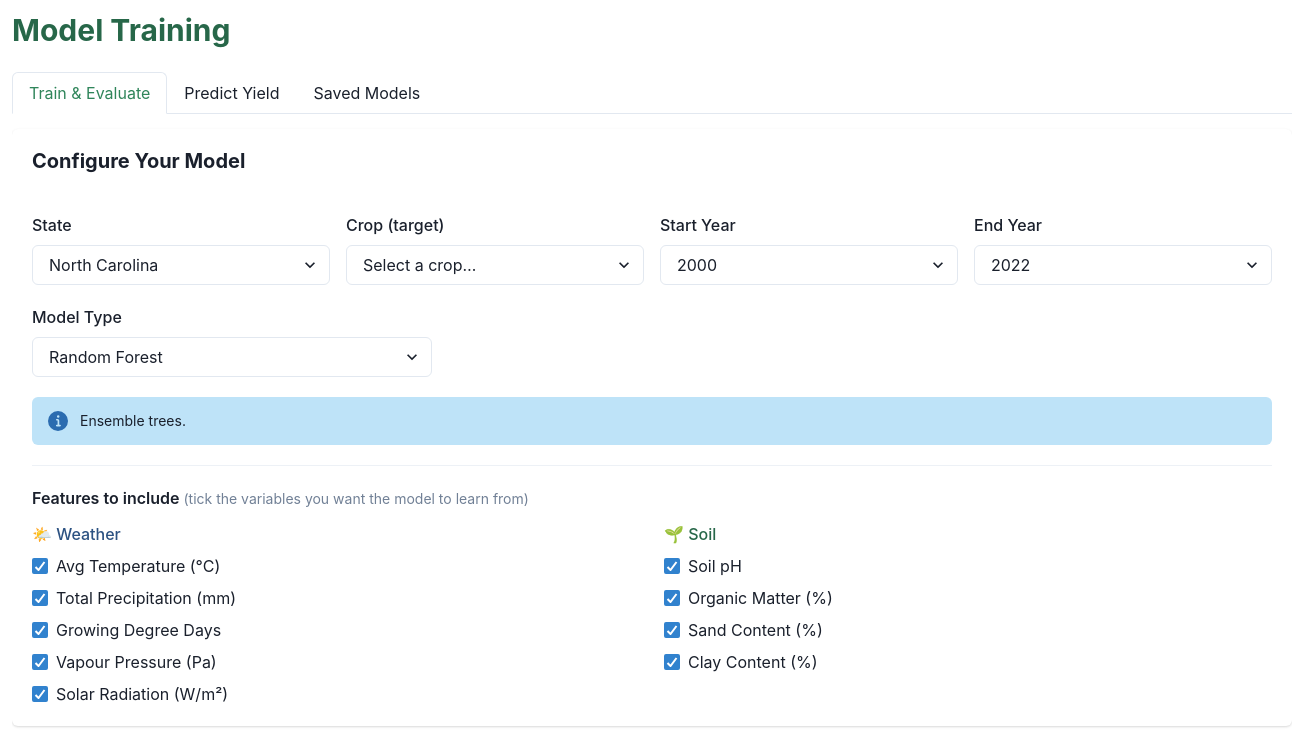
Model page – Saved Models tab › shows saved model runs table
The width and height of the screenshot is (1292, 732).
Step 1. Click the tab "Saved Models" → (367, 93), box left=296, top=72, right=437, bottom=114
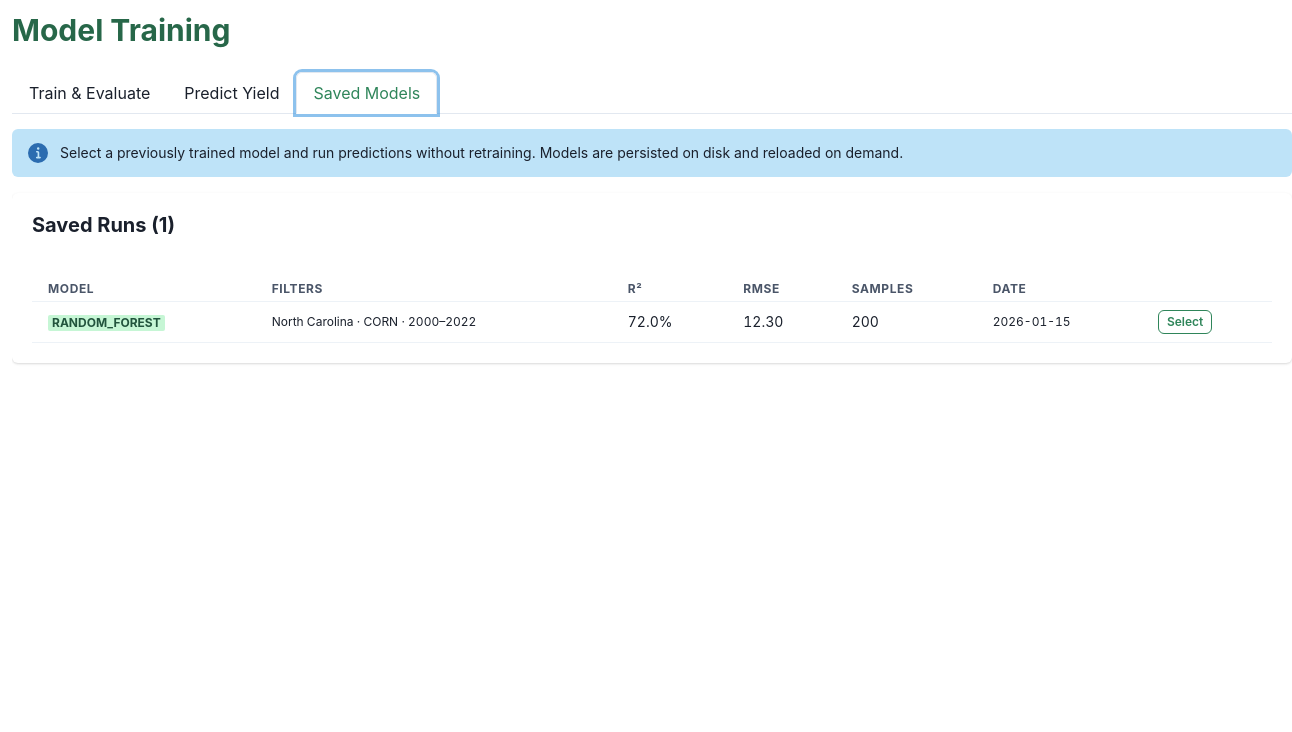
Expected: the text "random_forest" is shown, left=48, top=315, right=165, bottom=331
Expected: the text "72.0%" is shown, left=612, top=302, right=727, bottom=342
